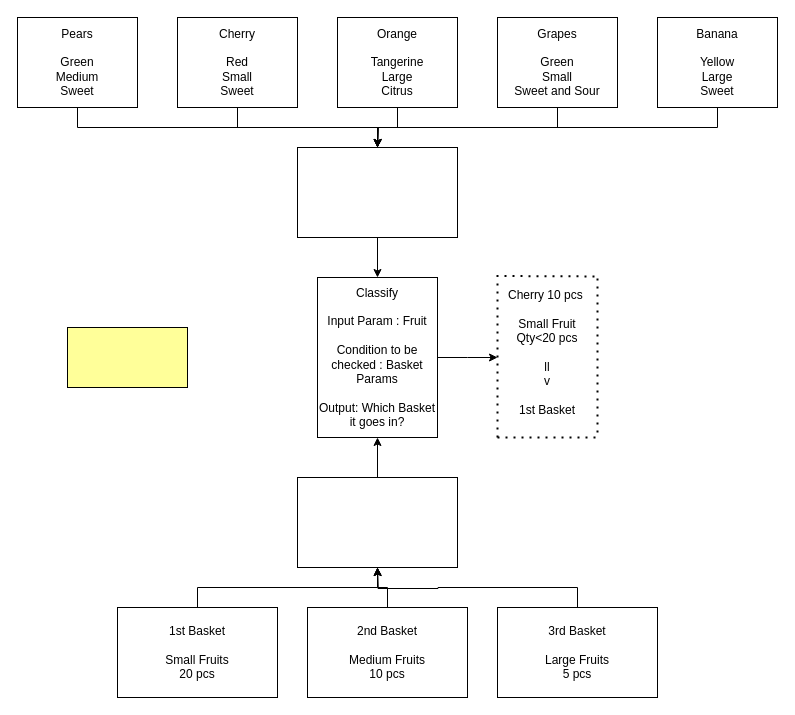
Some shapes in this 795 by 715 pixel diagram are drawn without their labels. The centre of each missing label's shape, as x and y in pixels:
"Basket getFruitTypeInLayer getLayerLimit" goes at pixel 377 522.
"Fruit Bowl Capstone Project" goes at pixel 127 357.
"Fruits getColor getSize getType" goes at pixel 377 192.
